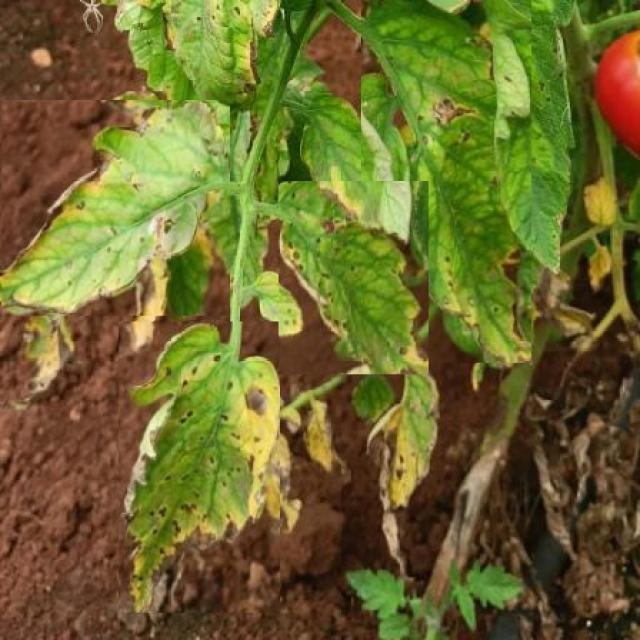Early Blight: (360, 0, 531, 363), (2, 100, 231, 316), (119, 321, 280, 613), (278, 180, 428, 374)
